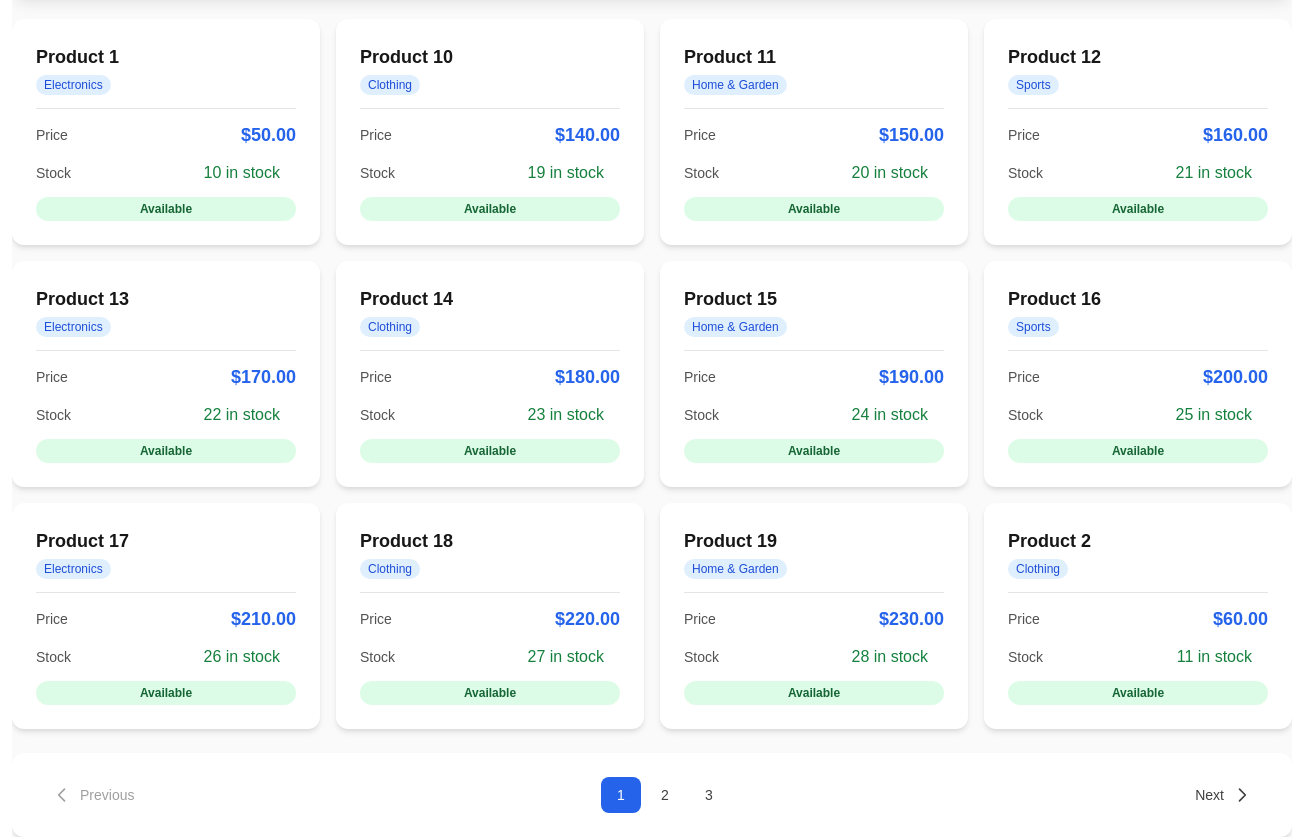
Scenario: ProductList Page › Pagination › should navigate to next page when next button is clicked
(page scrolled)
What coordinates should you click on to do the following:
click the button "Next"
I would click on:
 (1224, 795)
Its box is x1=1179 y1=777 x2=1268 y2=813.
(page scrolled)
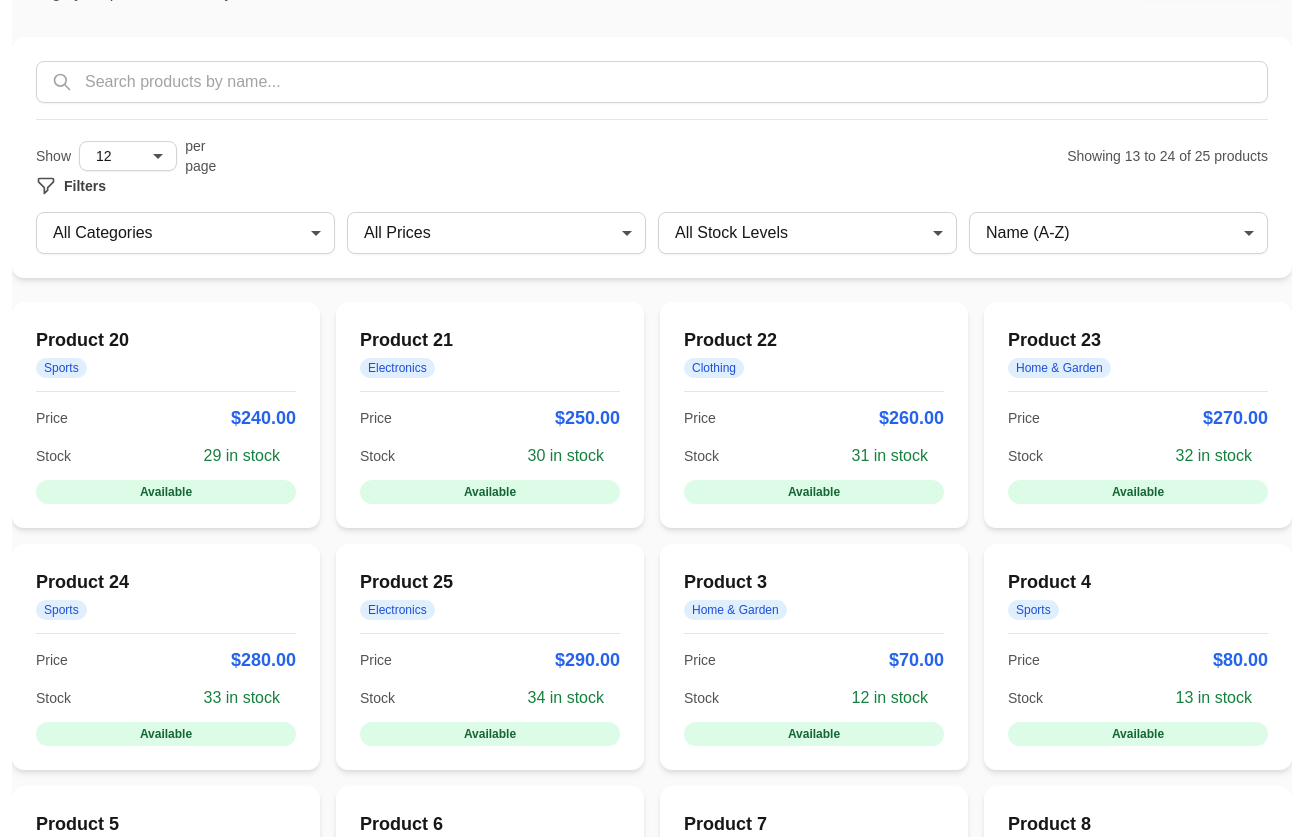
Result: the text "Showing 13 to 24 of 25 products" is shown at x1=1067 y1=146 x2=1268 y2=166
